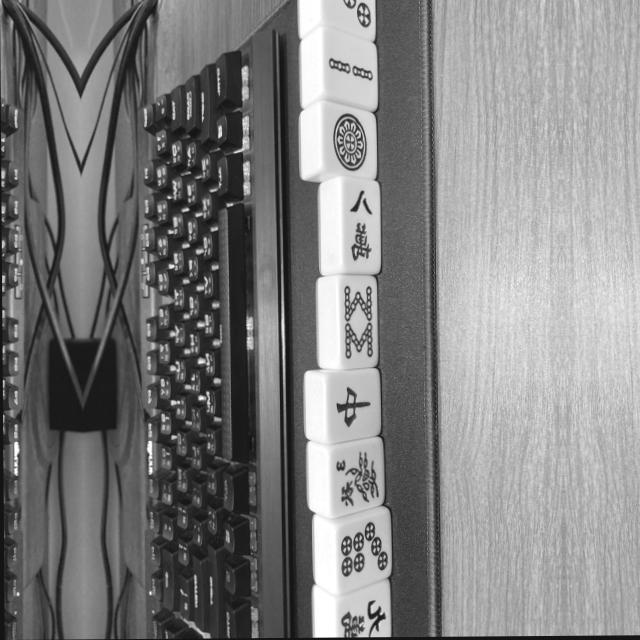1D: (323, 104, 375, 182)
2B: (325, 34, 378, 109)
3D: (323, 0, 375, 40)
3S: (332, 440, 384, 515)
7D: (336, 515, 390, 593)
8B: (339, 277, 376, 368)
8C: (341, 181, 378, 276)
9C: (337, 586, 390, 638)
RD: (327, 370, 380, 442)
